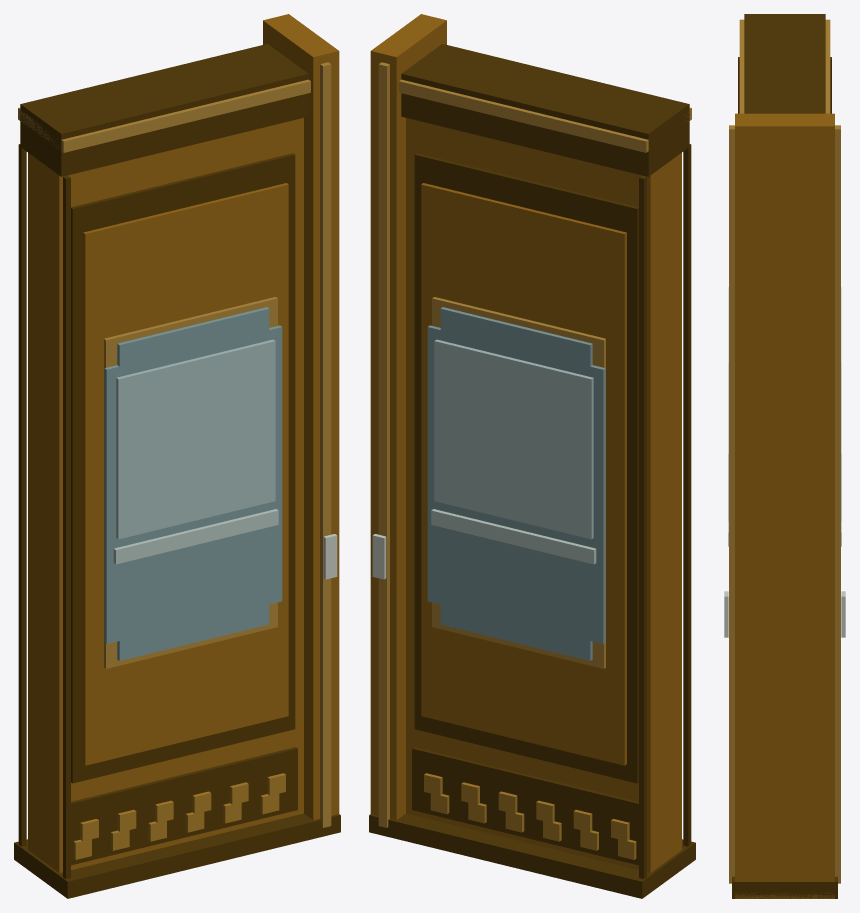
Rendered from CMU3DPairedEngineerGlass.glb.
The picture shows the model from 3 angles, left to right: view 1: azimuth 30°, elevation 25°; view 2: azimuth 150°, elevation 25°; view 3: azimuth 270°, elevation 25°; orthographic projection.
Parts seen in each view (by area): view 1: inner face panel, single closed door leaf, pale upper reflection, chamfered window center, outer door jamb, leaf recessed face, continuous top track, meeting edge seal (×2), lower hazard band, outer jamb highlight, threshold, top track lip (+5 smaller); view 2: inner face panel back, single closed door leaf, pale upper reflection back, chamfered window center back, outer door jamb, leaf recessed face back, continuous top track, meeting edge seal (×2), lower hazard band back, outer jamb highlight, threshold, chamfered window upper shoulder back (+5 smaller); view 3: outer door jamb, outer jamb highlight (×2), continuous top track, threshold, top track lip.
Boxes of the visible parts, x1,y1,x2,y2 form: inner face panel: [83, 183, 288, 765]; single closed door leaf: [28, 118, 303, 872]; pale upper reflection: [116, 339, 275, 539]; chamfered window center: [104, 325, 282, 643]; outer door jamb: [263, 14, 339, 820]; leaf recessed face: [71, 153, 295, 783]; continuous top track: [20, 44, 308, 176]; meeting edge seal (×2): [18, 144, 70, 878]; lower hazard band: [71, 747, 297, 865]; outer jamb highlight: [320, 62, 331, 827]; threshold: [14, 813, 340, 898]; top track lip: [18, 79, 310, 152]; inner face panel back: [421, 183, 626, 765]; single closed door leaf: [406, 118, 681, 872]; pale upper reflection back: [434, 339, 593, 539]; chamfered window center back: [427, 325, 605, 643]; outer door jamb: [370, 14, 446, 820]; leaf recessed face back: [414, 153, 638, 783]; continuous top track: [401, 44, 689, 176]; meeting edge seal (×2): [639, 144, 691, 878]; lower hazard band back: [412, 747, 638, 865]; outer jamb highlight: [378, 62, 389, 827]; threshold: [369, 813, 695, 898]; chamfered window upper shoulder back: [440, 307, 592, 366]; outer door jamb: [735, 113, 834, 898]; outer jamb highlight (×2): [729, 125, 840, 883]; continuous top track: [744, 14, 825, 113]; threshold: [732, 876, 837, 898]; top track lip: [739, 19, 830, 113].
Size of the model in its own units: 1 by 2.73 by 0.388.
